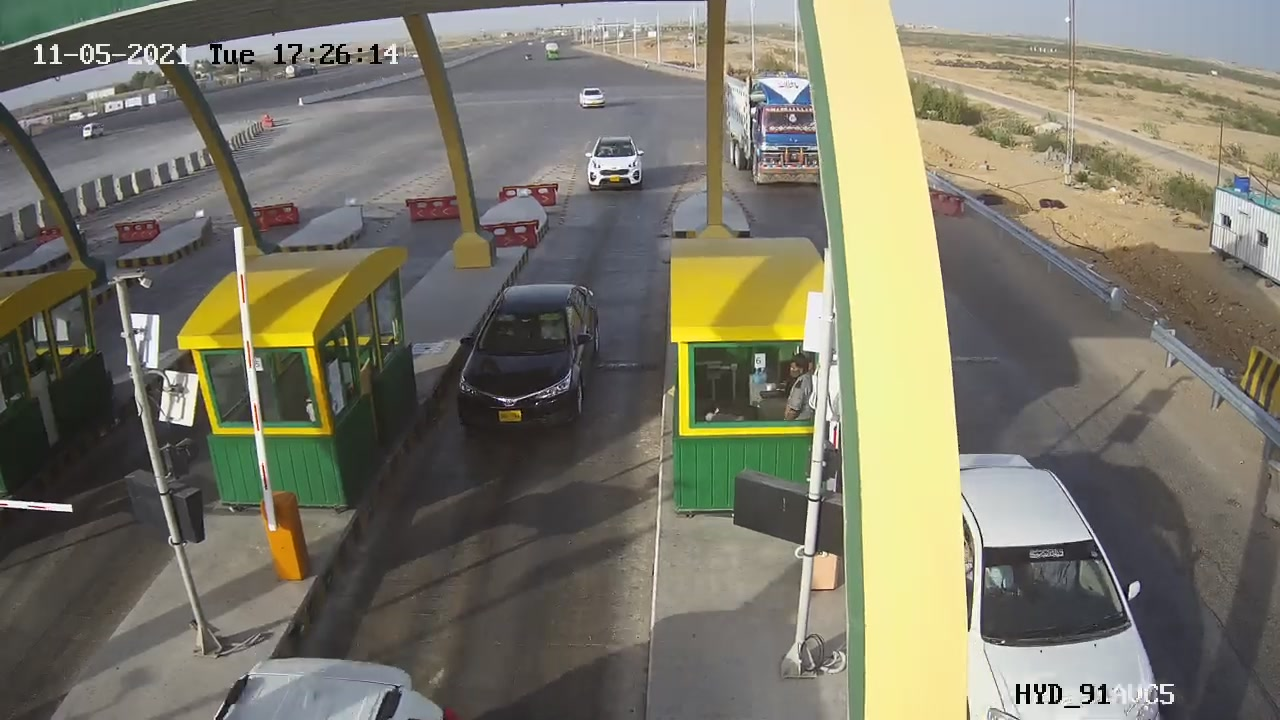F1: (435, 268, 618, 461)
